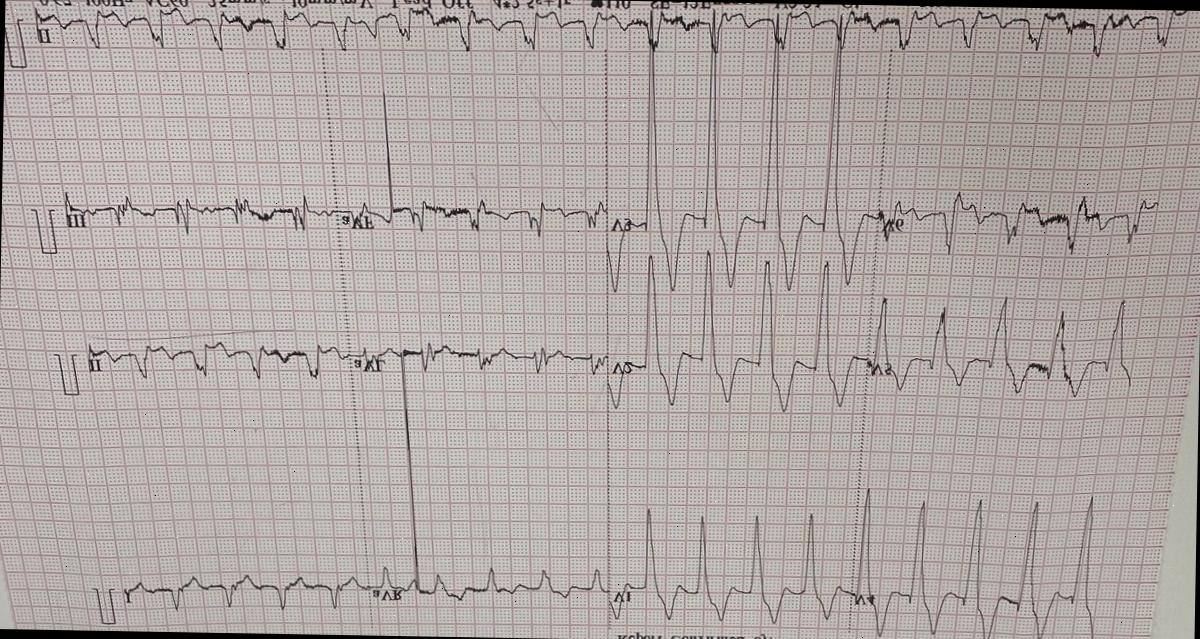Lead_I: (120, 532, 372, 626)
Lead_II: (76, 306, 357, 398)
Lead_III: (63, 162, 340, 253)
Lead_II_ext: (26, 0, 1200, 100)
Lead_V1: (606, 489, 859, 639)
Lead_V2: (602, 246, 873, 426)
Lead_V3: (606, 5, 887, 307)
Lead_V4: (856, 462, 1118, 639)
Lead_V5: (868, 275, 1144, 411)
Lead_V6: (880, 169, 1168, 262)
Lead_aVF: (338, 82, 612, 251)
Lead_aVL: (342, 332, 610, 594)
Lead_aVR: (368, 320, 606, 624)
